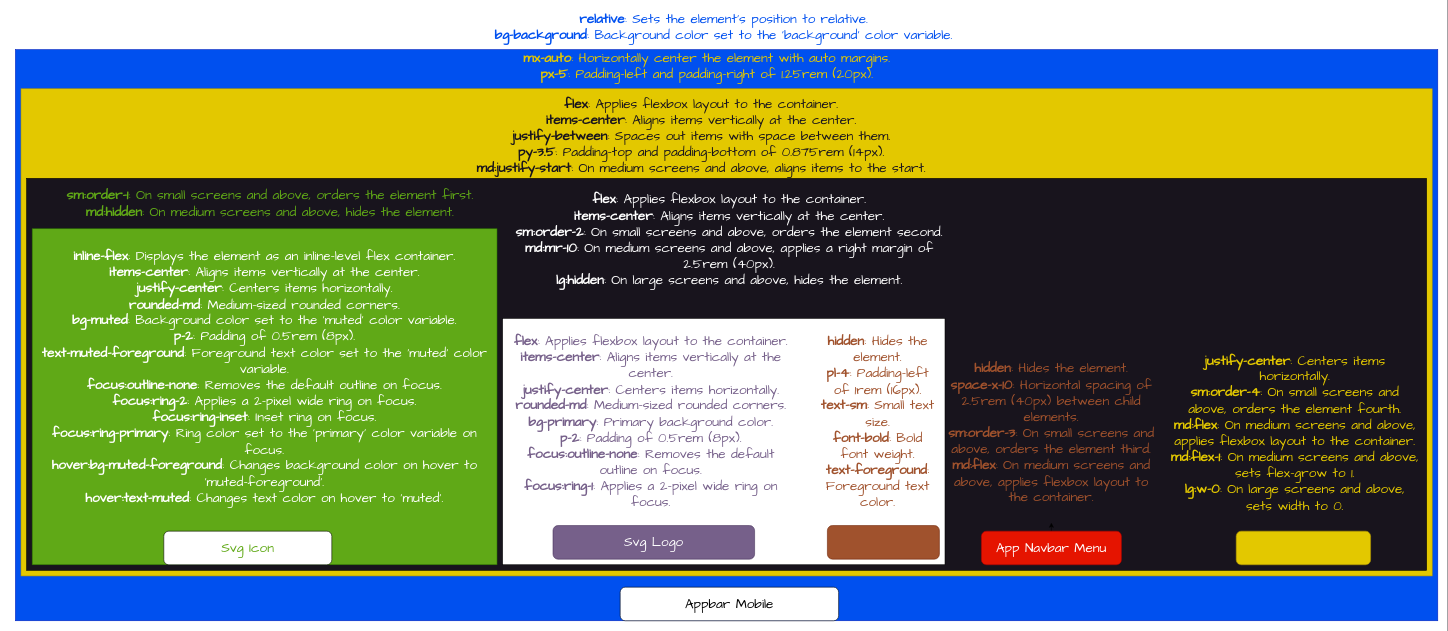
Some shapes in this 1448 by 631 pixel diagram are drawn without their labels. The shapes that lost their labels are listed below. From the top down, each one's centre as x and y in pixels, then its label:
pixel 883 542: Brand Name
pixel 1303 548: Profile Menu
